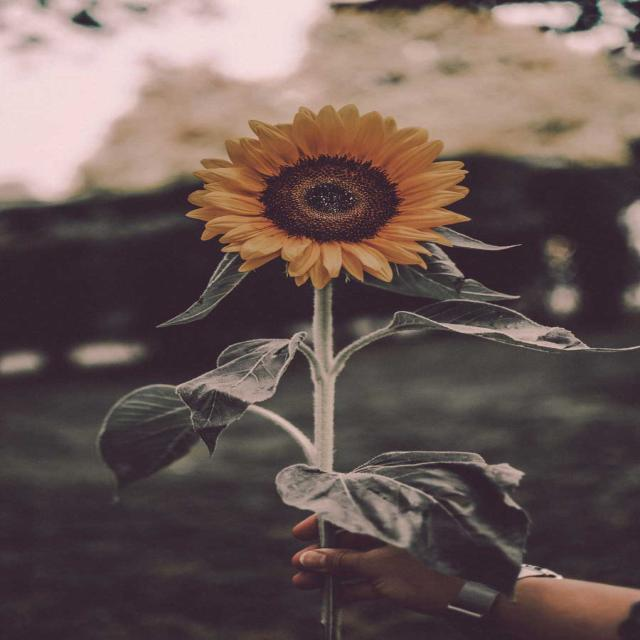sunflower: (185, 102, 472, 290)
